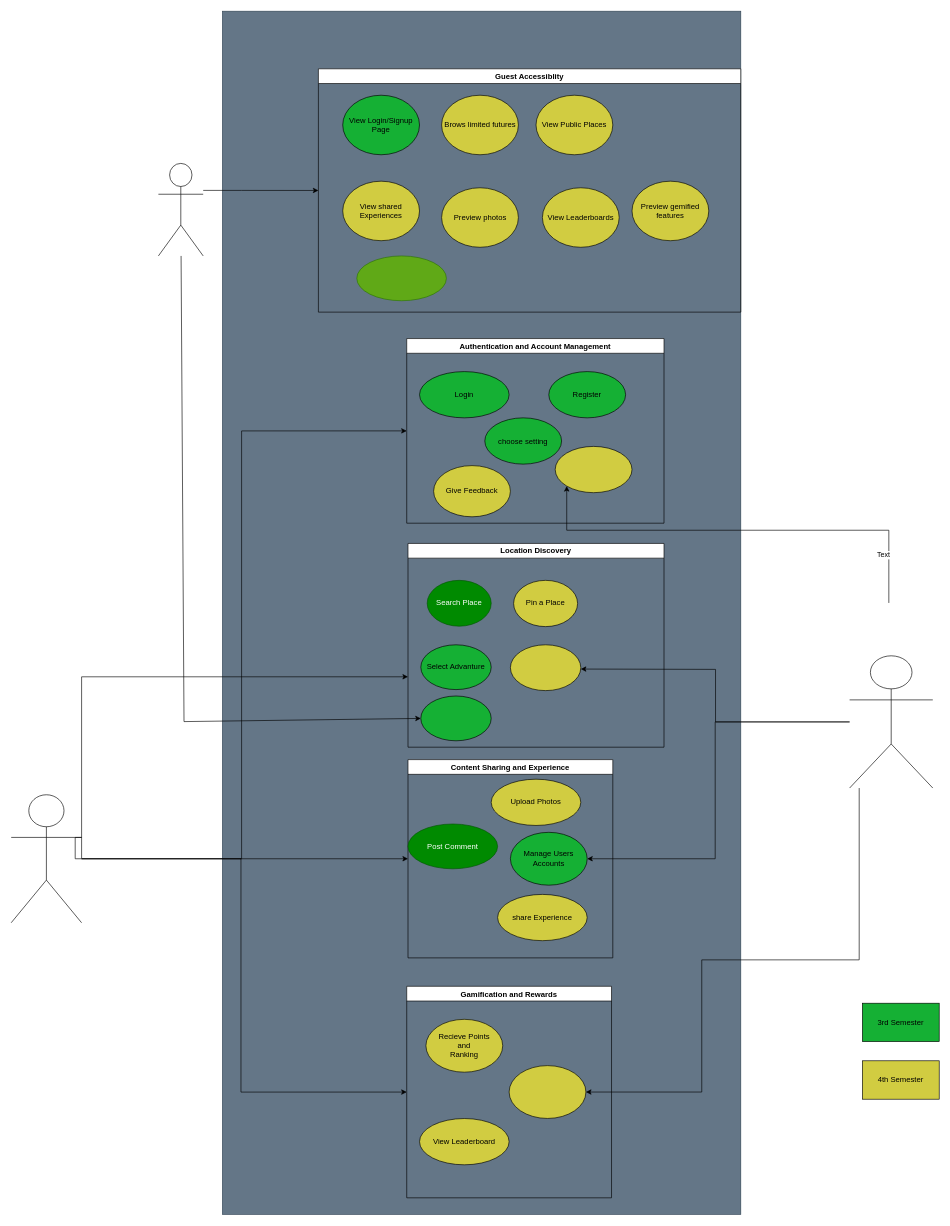
The diagram is 950 pixels wide and 1226 high, and some of its shapes have lost their labels. The shapes that lost their labels are listed below. From the top down, each one's centre as x and y in pixels, then its label:
(x=180, y=209): Guest
(x=401, y=278): Search location
(x=593, y=469): Manage Users
(x=545, y=667): Manage Loction
(x=455, y=718): Interactive Map
(x=891, y=721): Administrator
(x=46, y=858): User
(x=547, y=1091): View User Activity and Reports
